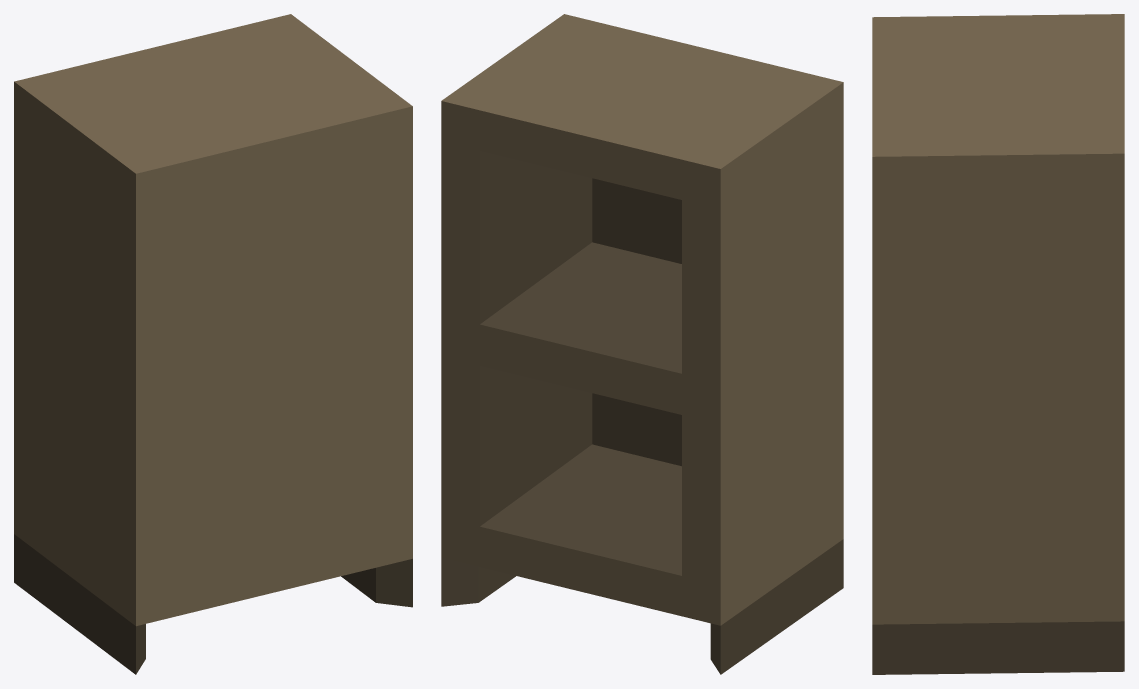
The model's file is closet.fbx.
3 renders of one model, left to right at view 1: azimuth 30°, elevation 25°; view 2: azimuth 150°, elevation 25°; view 3: azimuth 270°, elevation 25°, orthographic. The views are drawn at different scales.
Parts seen in each view (by area): view 1: closet; view 2: closet; view 3: closet.
Part boxes in pixels (x1,y1,x2,y2): closet: (14,14,412,674); closet: (441,14,843,674); closet: (872,14,1124,674).
Bounding box in the file's own units: 2 × 1.52 × 3.48.
